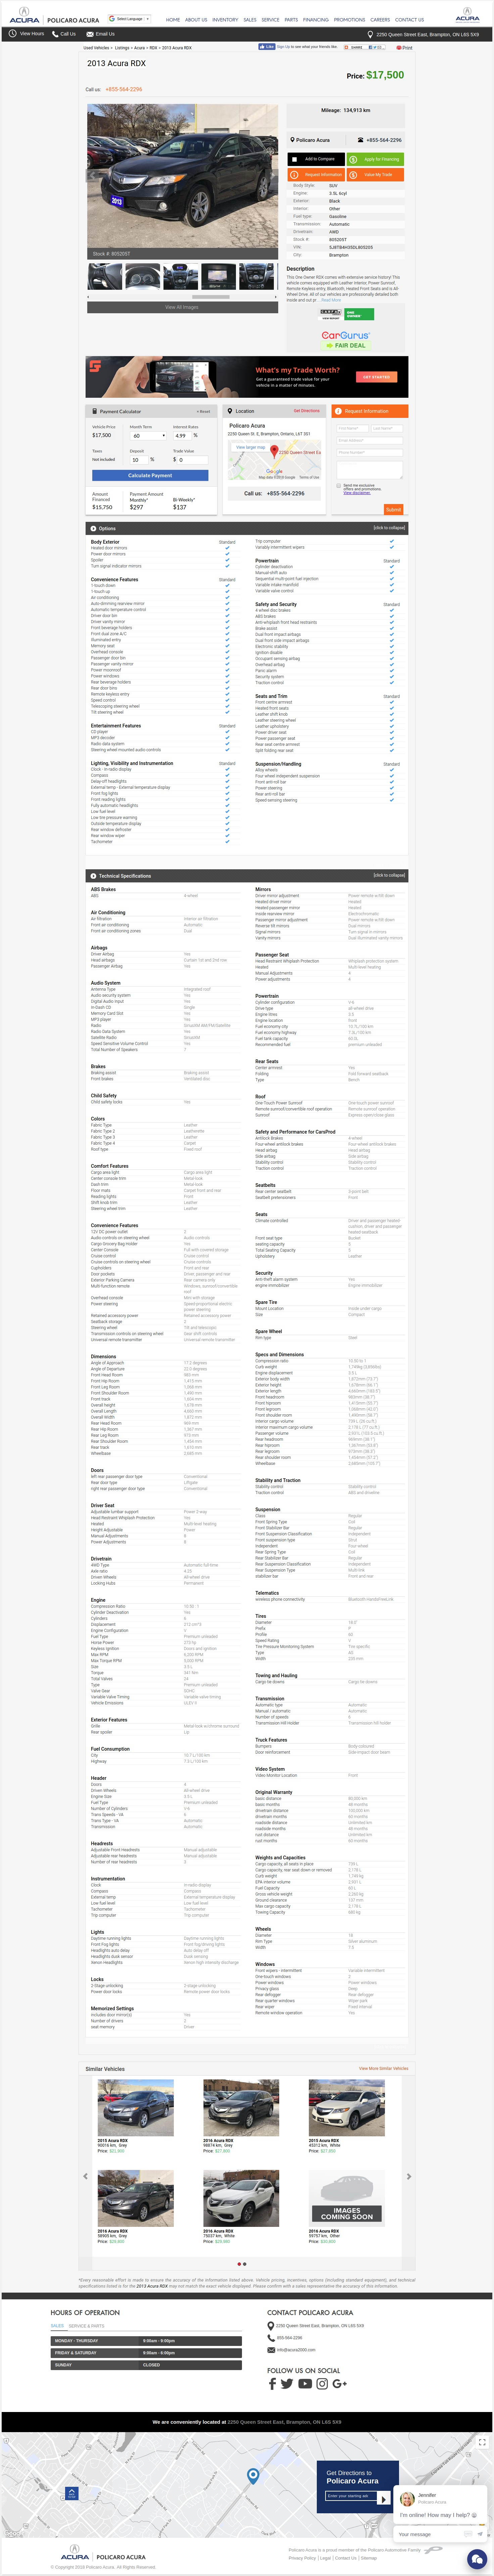car: (270, 172, 275, 181)
